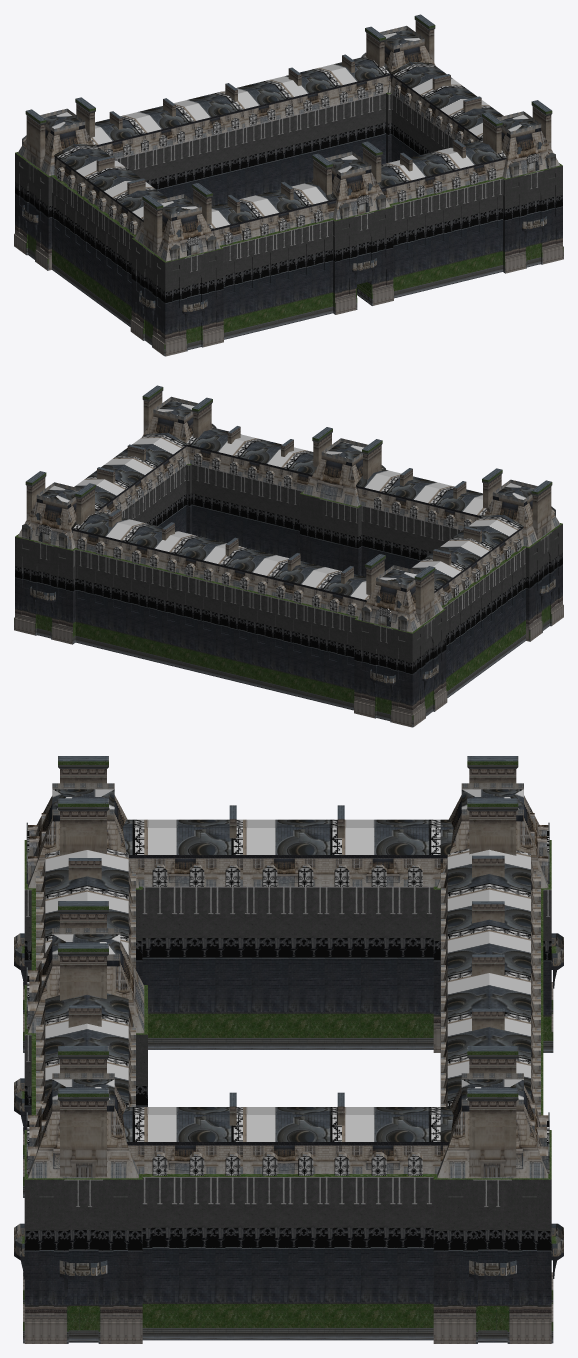
File: police.glb
3 renders of one model, top to bottom at view 1: azimuth 30°, elevation 25°; view 2: azimuth 150°, elevation 25°; view 3: azimuth 270°, elevation 25°, orthographic. The views are drawn at different scales.
Parts seen in each view (by area): view 1: parispolice; view 2: parispolice; view 3: parispolice.
Part boxes in pixels (x1,y1,x2,y2): parispolice: (14,14,563,356); parispolice: (14,385,563,727); parispolice: (14,756,563,1343).
Bounding box in the file's own units: 9525 × 3161 × 6346.
Materials: 1 (1 with a texture image).
